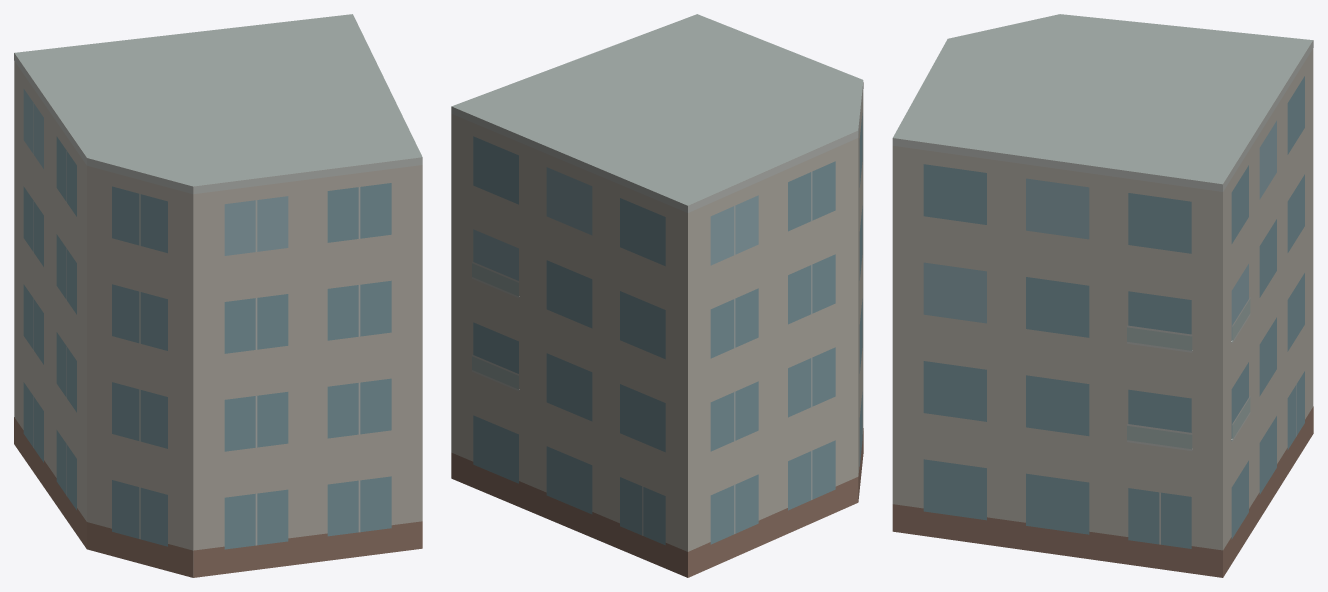
Rendered from survey-upis-32969677.glb.
3 views of the same model, side by side, from view 1: azimuth 30°, elevation 25°; view 2: azimuth 150°, elevation 25°; view 3: azimuth 270°, elevation 25° (orthographic). The views are drawn at different scales.
Parts seen in each view (by area): view 1: survey-upis-32969677.tmp; view 2: survey-upis-32969677.tmp; view 3: survey-upis-32969677.tmp.
Boxes of the visible parts, x1=… form: survey-upis-32969677.tmp: x1=14, y1=14, x2=422, y2=577; survey-upis-32969677.tmp: x1=451, y1=14, x2=863, y2=577; survey-upis-32969677.tmp: x1=892, y1=14, x2=1313, y2=577.
Bounding box in the file's own units: 11.51 × 12.4 × 12.02.
